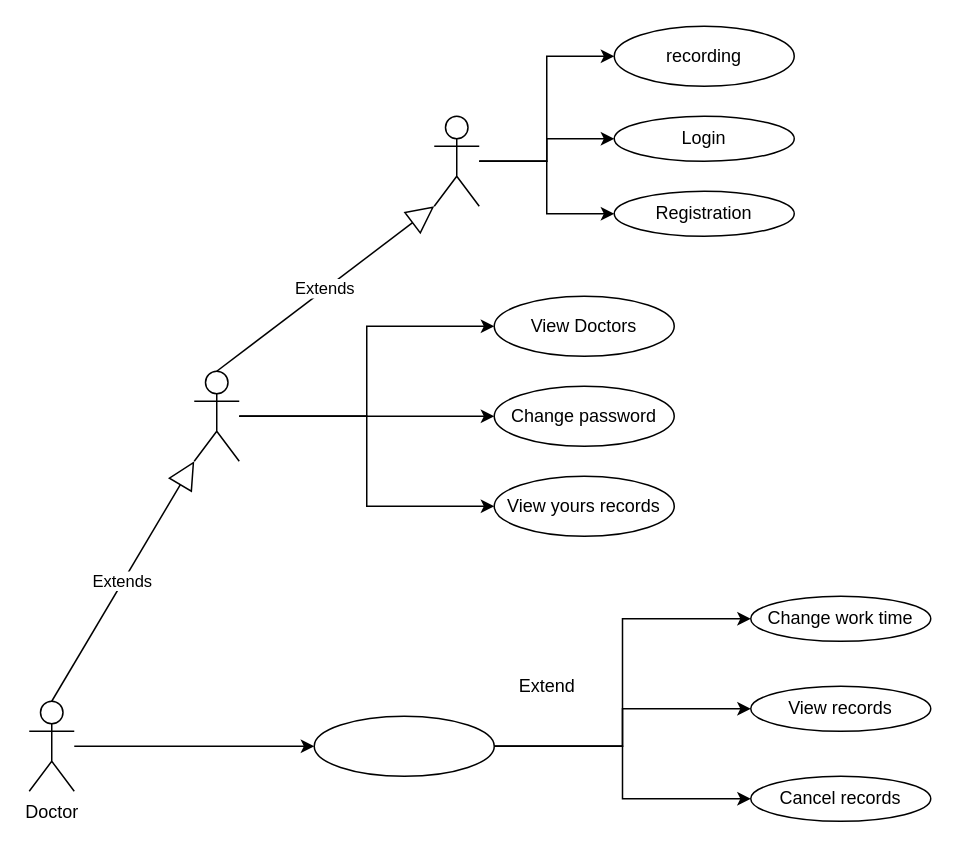
The diagram is 957 pixels wide and 849 high, and some of its shapes have lost their labels. Here are the shapes that lost their labels. From the top down, the centre of each, then its label:
the point at 456,160: User
the point at 216,415: AuthUser
the point at 403,745: View doctor panel
